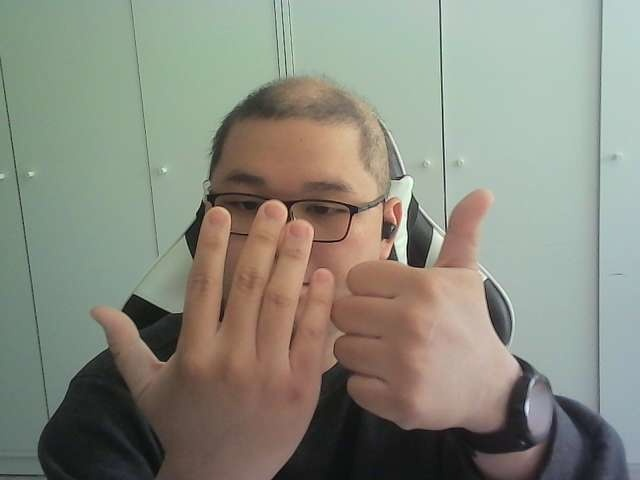Six: (89, 188, 493, 431)
